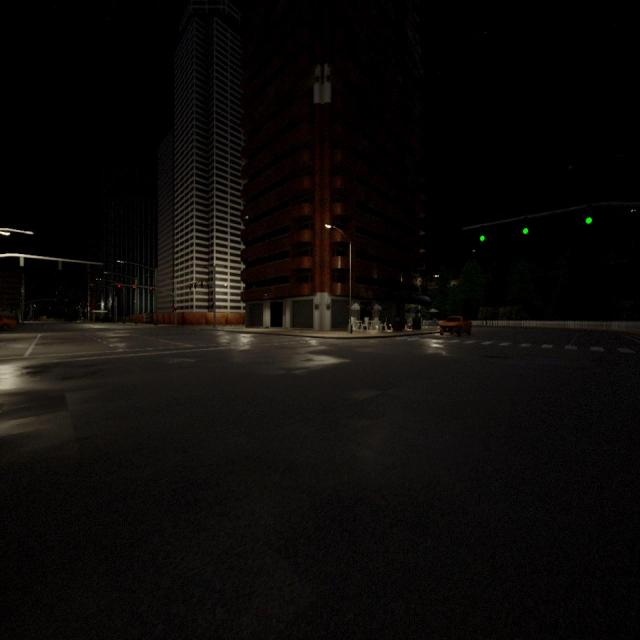Vehicle: (439, 314, 473, 338), (0, 311, 17, 332)
traffic_light: (586, 206, 592, 226), (522, 217, 528, 236), (480, 225, 486, 242), (20, 256, 24, 267), (59, 260, 62, 270), (211, 300, 214, 309), (149, 286, 152, 294), (200, 281, 203, 288), (133, 284, 135, 292), (118, 284, 120, 291), (189, 283, 191, 290), (194, 282, 196, 289), (174, 305, 176, 311)
